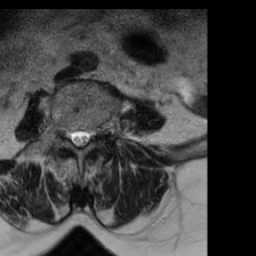CCS_normal: (76, 122, 82, 155)
LFS_normal: (91, 121, 99, 146)
LLS_normal: (82, 122, 90, 150)
RFS_normal: (61, 121, 69, 144)
RLS_normal: (69, 123, 76, 150)
